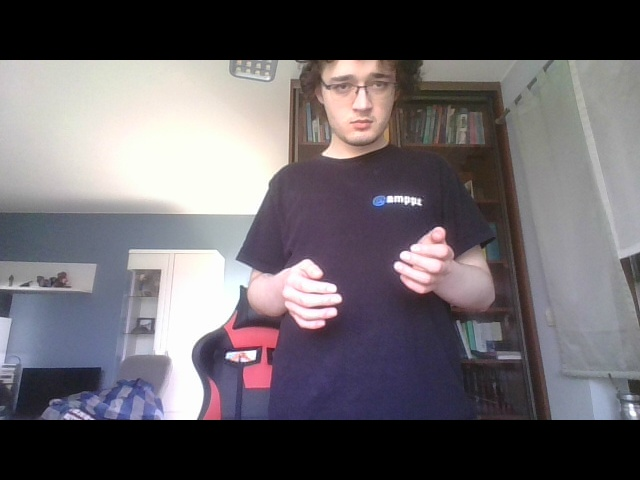hand: (281, 254, 347, 333), (391, 227, 454, 301)
